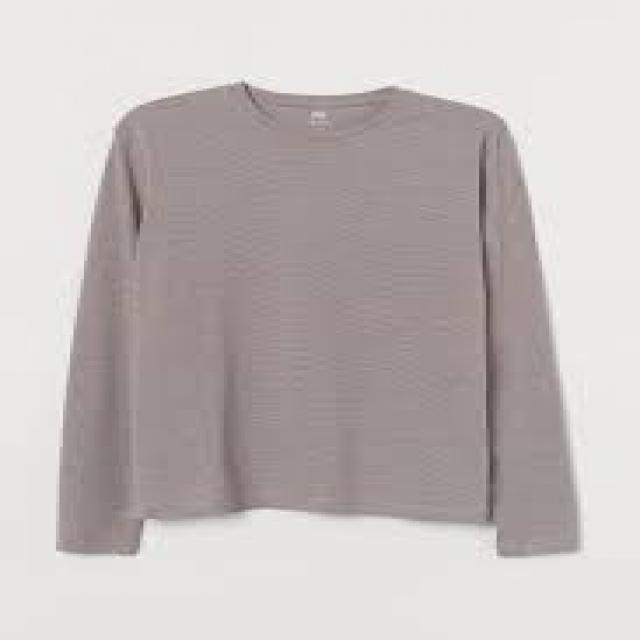plain: (56, 80, 578, 560)
